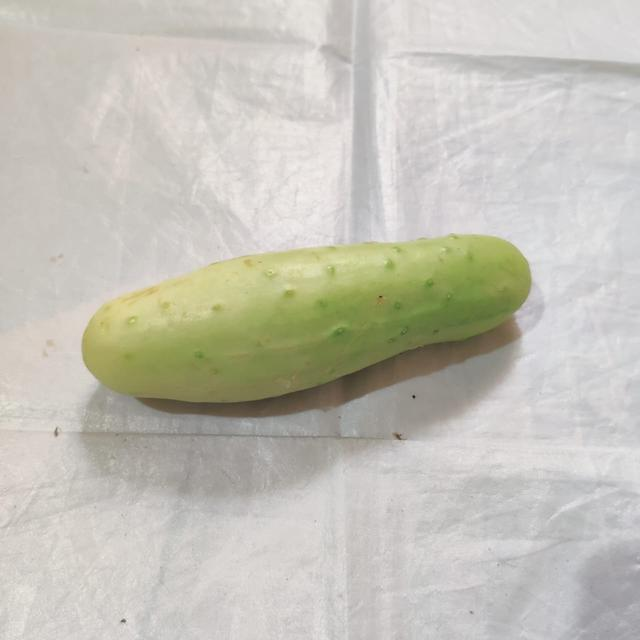Organik: (87, 233, 534, 407)
